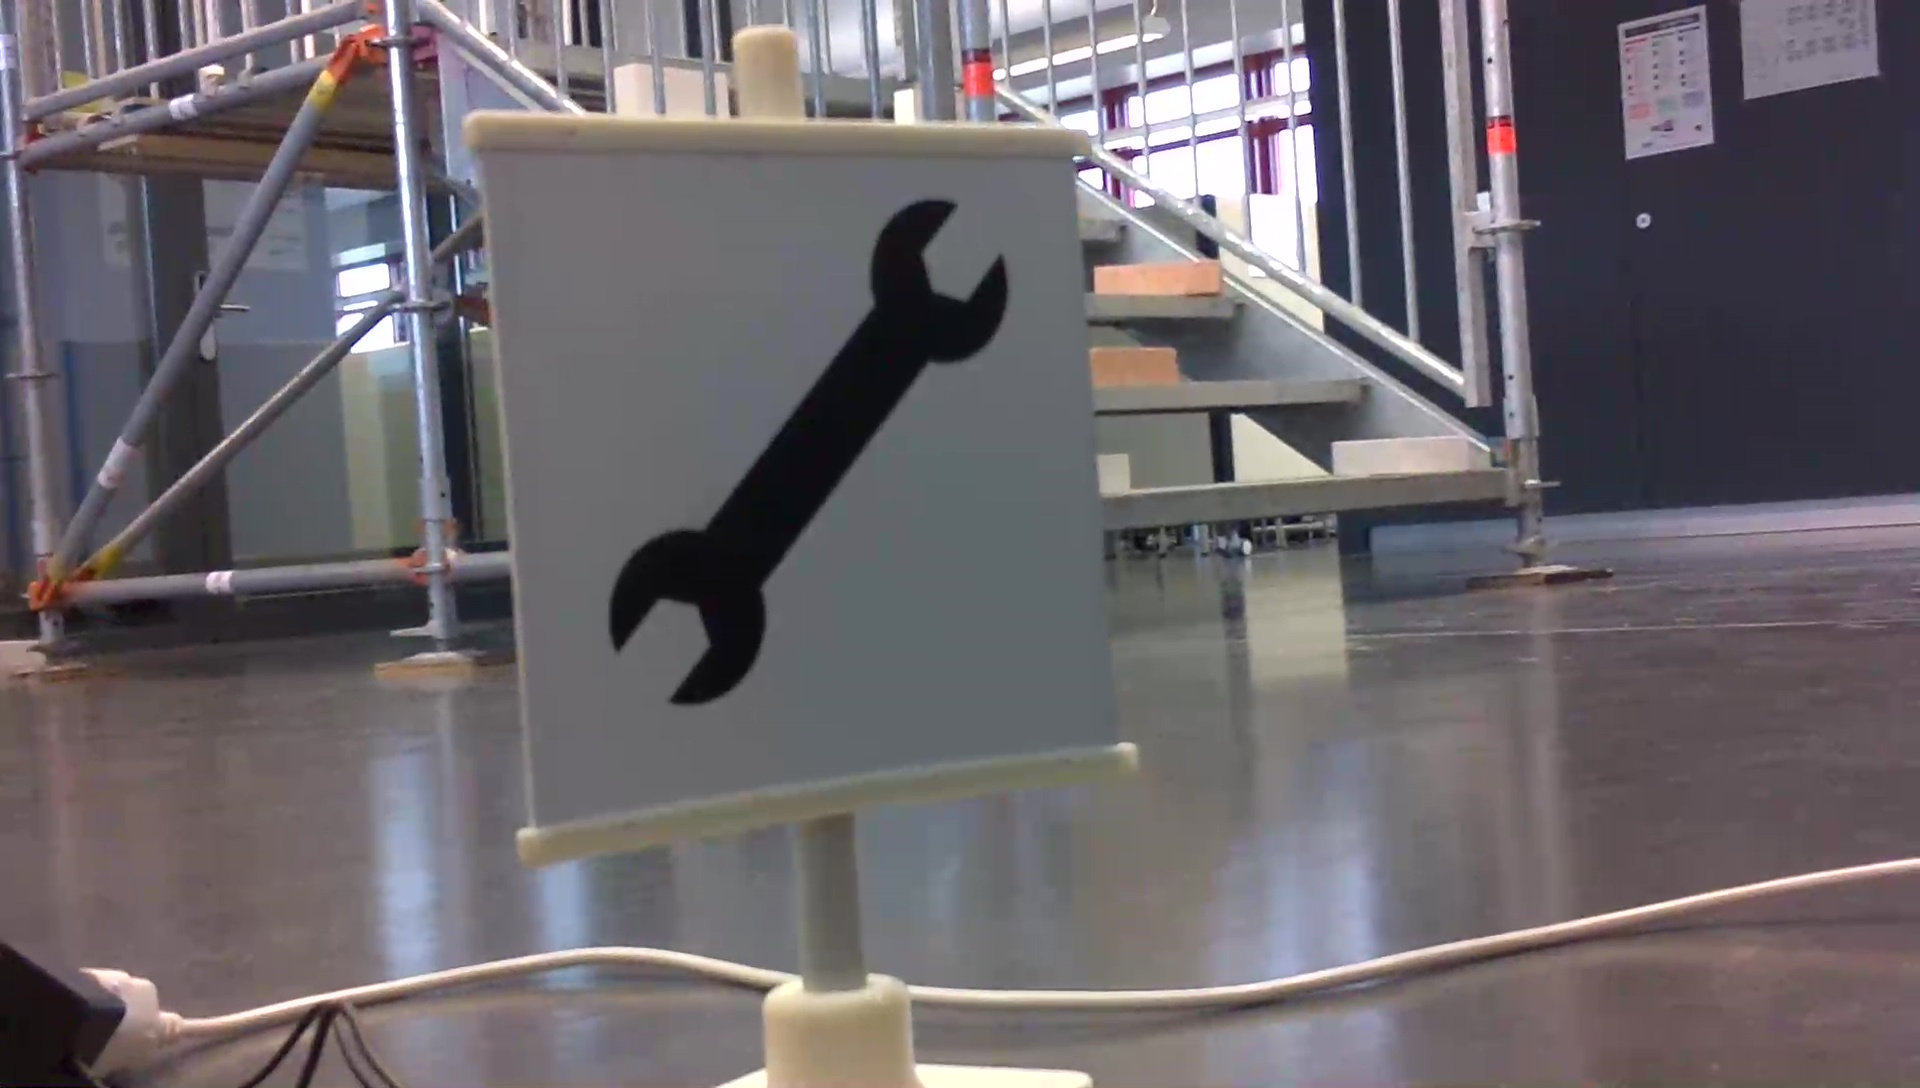brick: (1331, 440, 1466, 472), (1091, 262, 1220, 295), (1088, 346, 1175, 382), (1100, 455, 1127, 491)
edge: (1105, 469, 1513, 528), (1091, 376, 1370, 408), (1085, 295, 1247, 315), (1080, 218, 1133, 243)
wrench: (591, 182, 1019, 720)
